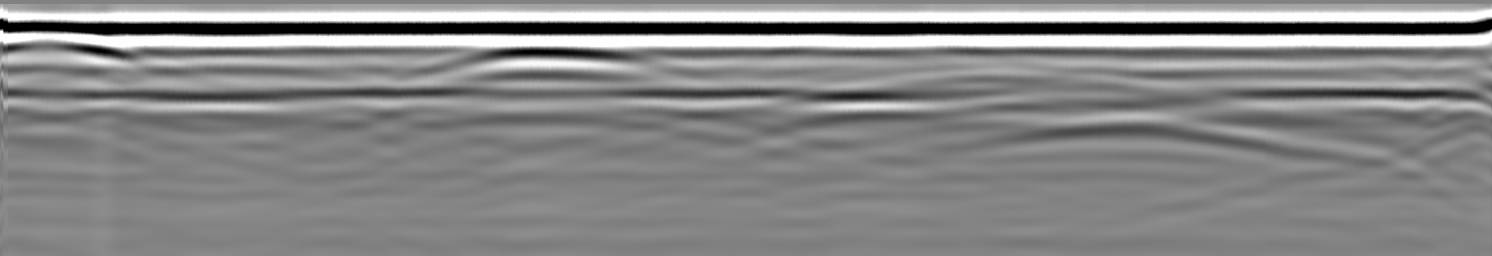pipe: (1, 18, 137, 65)
steel: (464, 42, 644, 79)
